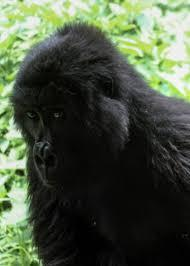goriile_montagne: (2, 15, 190, 257)
